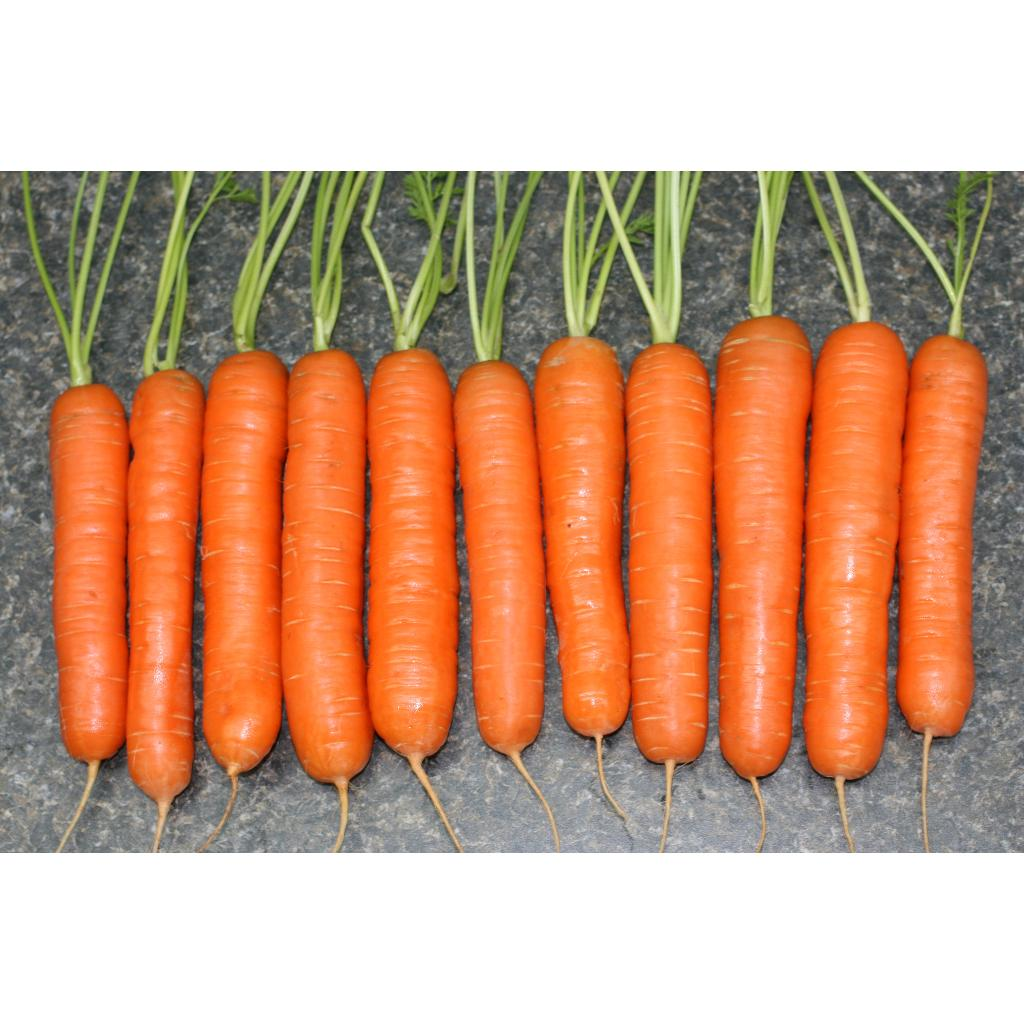carrot: (803, 321, 908, 849), (714, 316, 812, 849), (453, 360, 559, 852), (367, 349, 461, 852), (896, 335, 987, 849), (281, 349, 373, 852), (534, 337, 630, 818), (625, 343, 712, 852), (201, 351, 288, 843), (126, 369, 204, 853), (50, 384, 129, 853)
